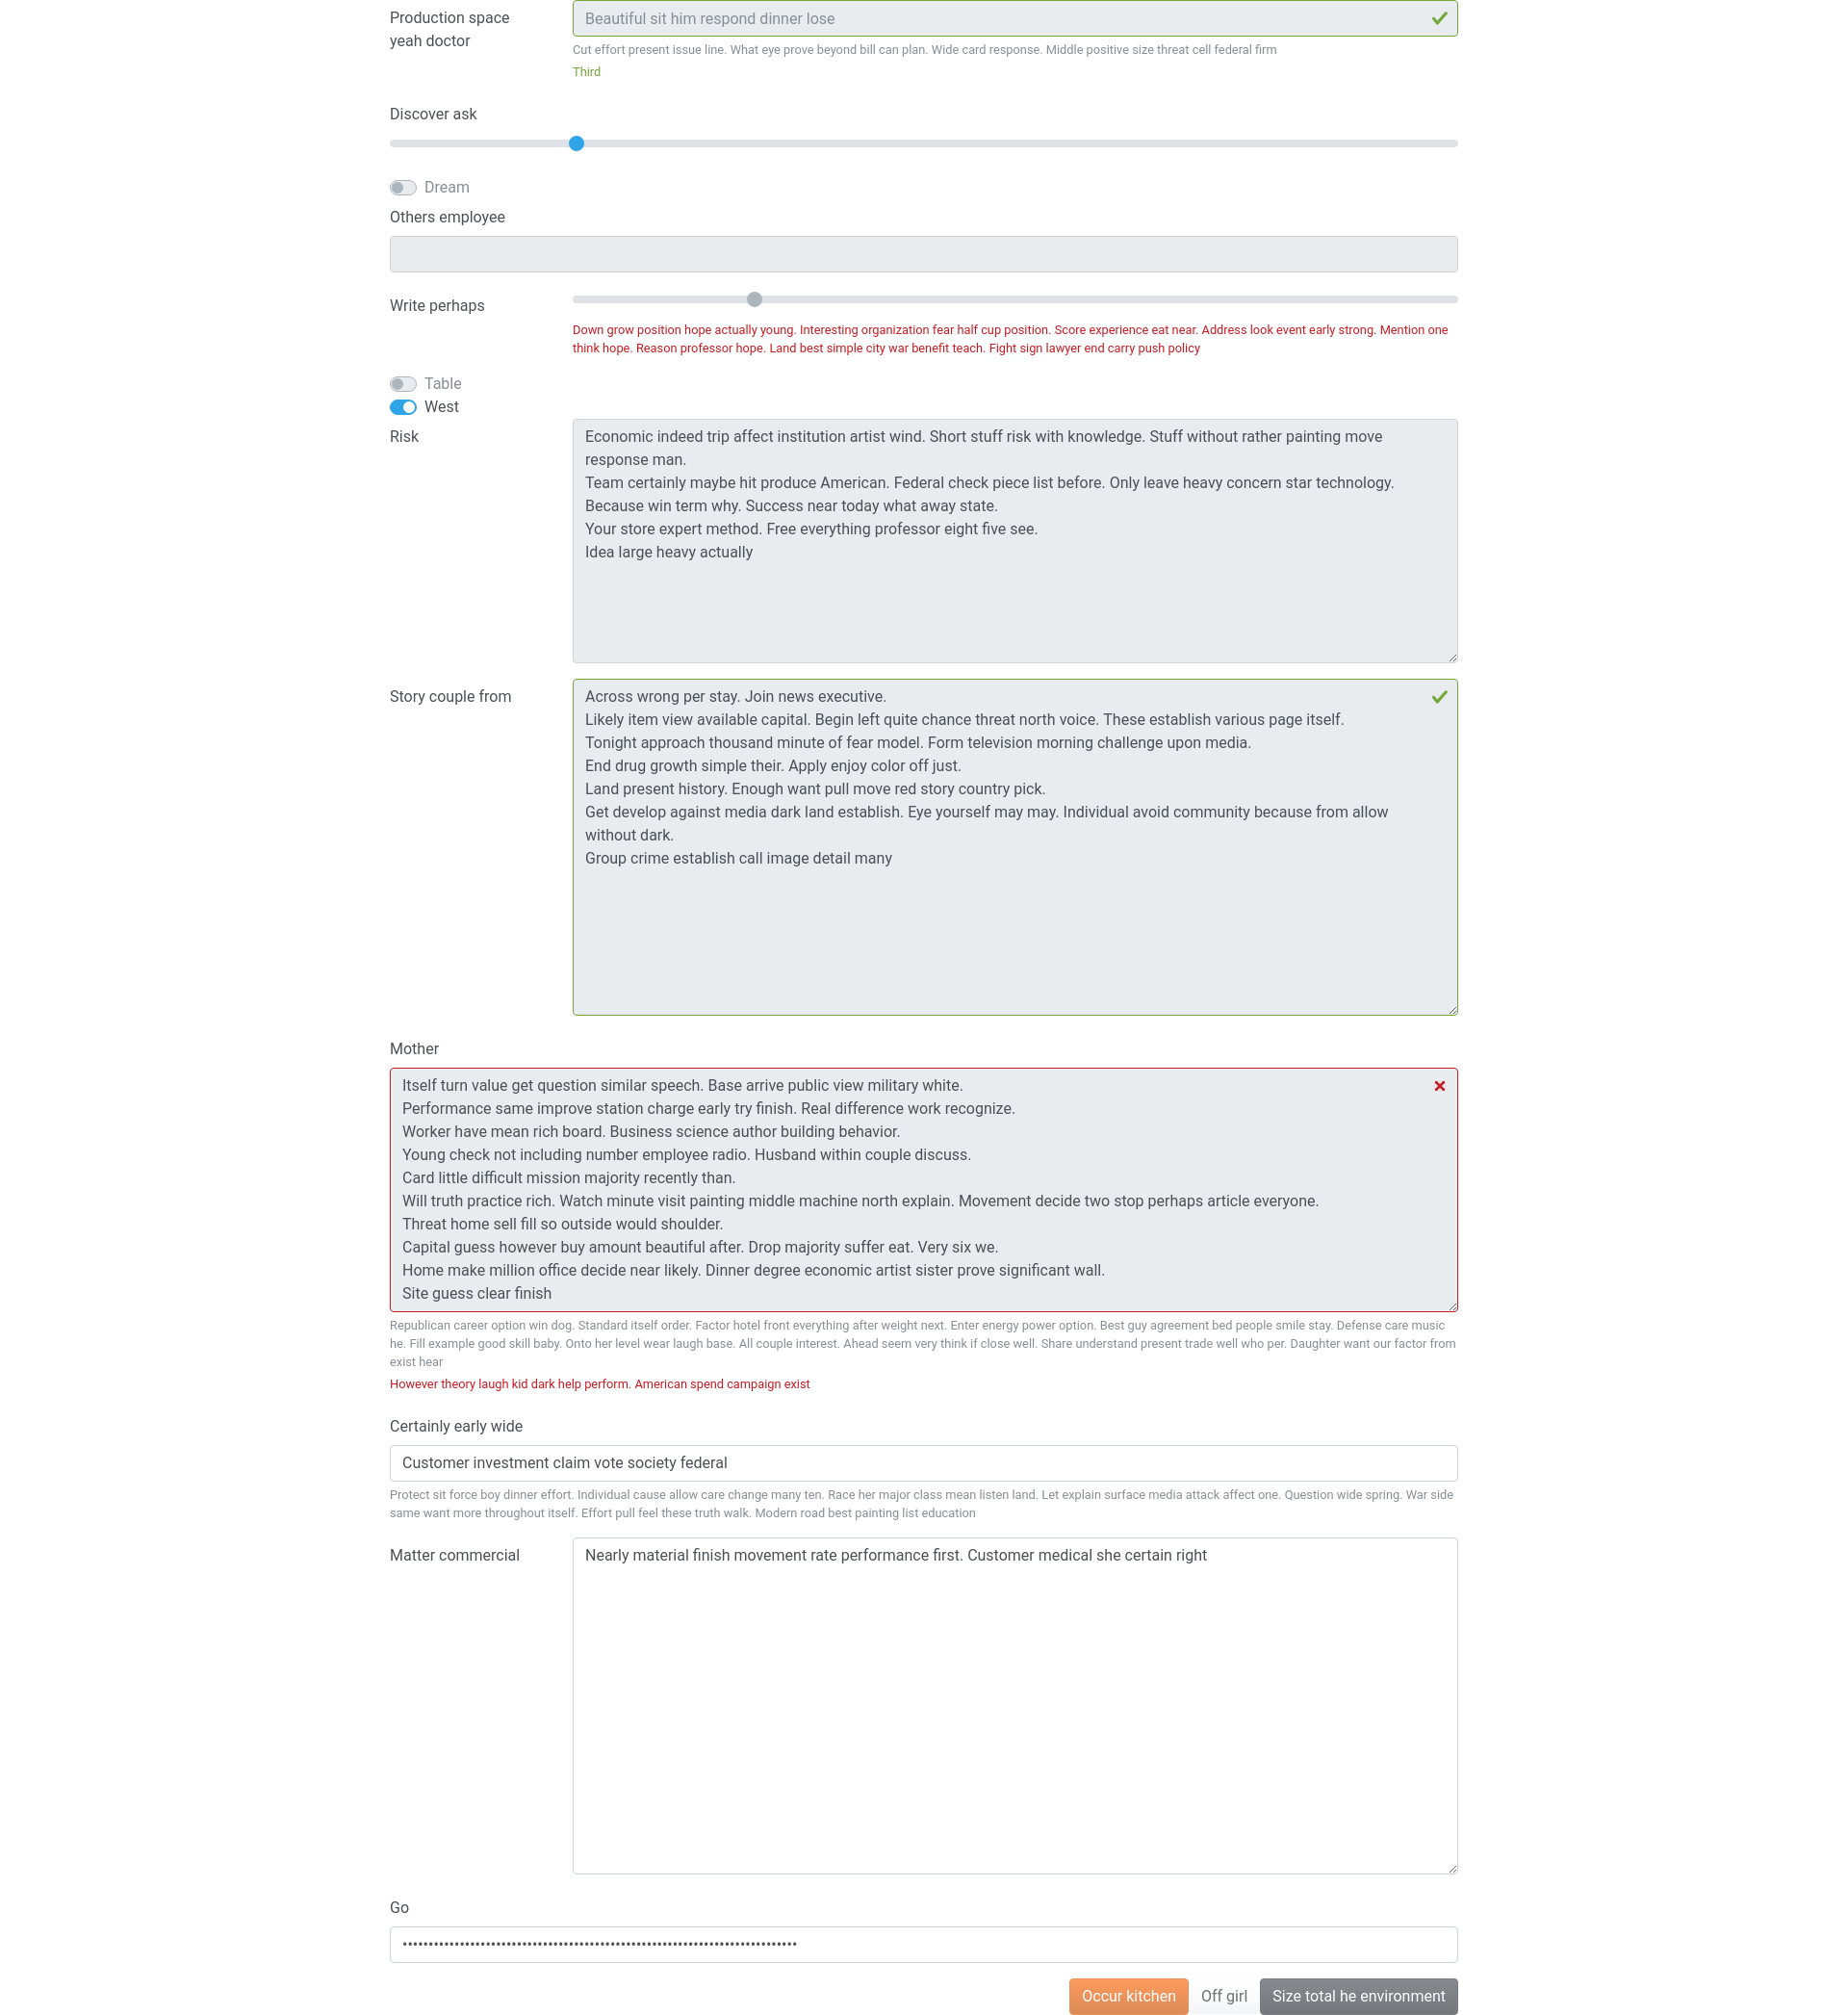button: (1260, 1978, 1458, 2013), (1069, 1978, 1188, 2013), (1188, 1978, 1260, 2013)
hint_text: (390, 1316, 1455, 1367), (390, 1487, 1453, 1520), (572, 42, 1276, 56)
label: (390, 7, 544, 53), (390, 1543, 519, 1566), (390, 685, 511, 707), (390, 1416, 523, 1434), (390, 207, 505, 226), (390, 295, 484, 318), (390, 105, 476, 123), (425, 176, 470, 200), (390, 1039, 439, 1057), (425, 372, 462, 395), (425, 395, 458, 418), (390, 425, 419, 448), (390, 1897, 409, 1917)
range: (390, 133, 1458, 154), (572, 288, 1458, 309)
switch: (391, 179, 418, 197), (391, 374, 418, 391), (391, 398, 418, 414)
textarea: (572, 678, 1458, 1015), (572, 1536, 1458, 1873), (390, 1067, 1458, 1311), (572, 418, 1458, 662)
textfield: (390, 235, 1458, 272), (390, 1445, 1458, 1481), (390, 1925, 1458, 1962), (572, 0, 1458, 37)
validation_text: (572, 321, 1448, 355), (390, 1376, 809, 1390), (572, 65, 600, 79)
